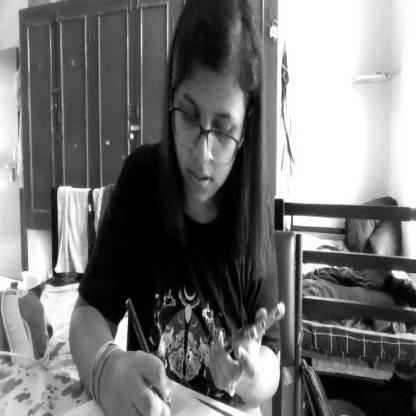Normal: (169, 0, 255, 222)
